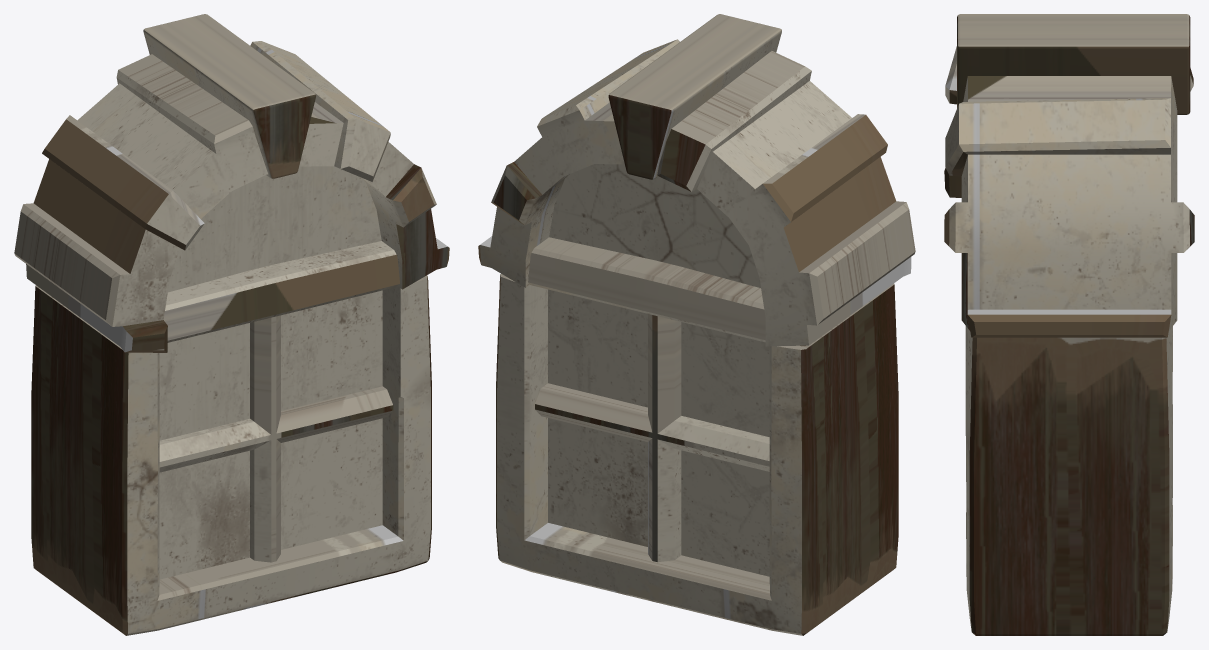
File: Window.fbx
The picture shows the model from 3 angles, left to right: view 1: azimuth 30°, elevation 25°; view 2: azimuth 150°, elevation 25°; view 3: azimuth 270°, elevation 25°; orthographic projection. The views are drawn at different scales.
Parts seen in each view (by area): view 1: pCube441, pCube442, pCube443; view 2: pCube441, pCube442, pCube443; view 3: pCube441, pCube443.
Part boxes in pixels (bbox=[...]): pCube441: bbox=[14, 41, 449, 635]; pCube442: bbox=[159, 166, 382, 579]; pCube443: bbox=[143, 14, 315, 178]; pCube441: bbox=[478, 39, 915, 635]; pCube442: bbox=[548, 164, 769, 576]; pCube443: bbox=[608, 14, 781, 179]; pCube441: bbox=[944, 46, 1194, 635]; pCube443: bbox=[957, 14, 1190, 114].
Size of the model in its own units: 1.34 by 1.88 by 0.8042.
1 material, 1 textured.
